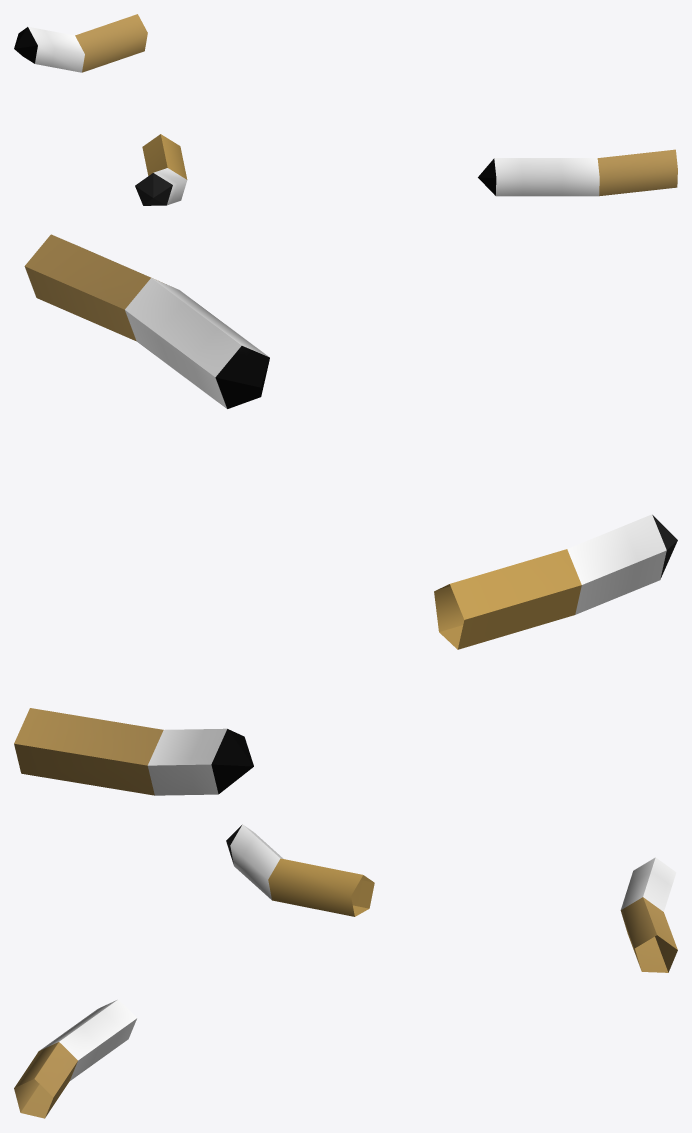
Rendered from Cigarettes.glb.
3 views of the same model, one above another, from view 1: azimuth 30°, elevation 25°; view 2: azimuth 150°, elevation 25°; view 3: azimuth 270°, elevation 25° (orthographic). The views are drawn at different scales.
Visible parts, largest first — view 1: cigarettes; view 2: cigarettes; view 3: cigarettes.
Boxes of the visible parts, x1=… form: cigarettes: x1=14, y1=14, x2=677, y2=205; cigarettes: x1=14, y1=234, x2=677, y2=795; cigarettes: x1=14, y1=824, x2=677, y2=1118.
Size of the model in its own units: 0.2605 by 0.0274 by 0.2936.
Materials: 1 (1 with a texture image).
